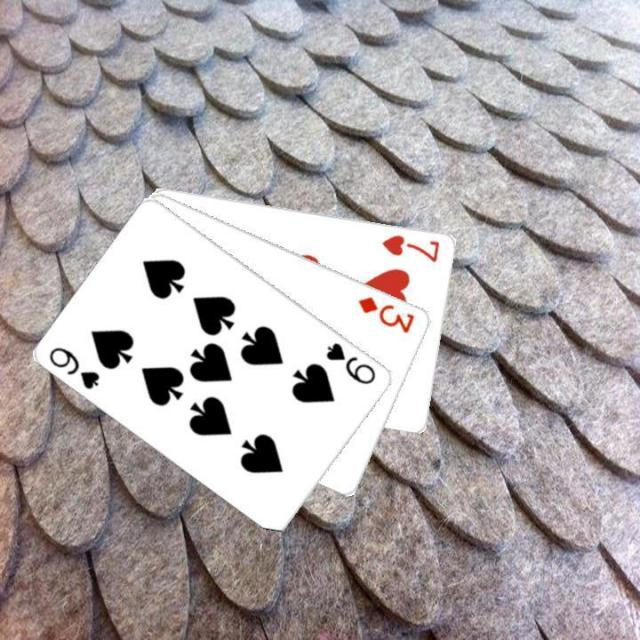3D: (354, 293, 417, 335)
7H: (378, 230, 442, 264)
9S: (322, 338, 379, 387), (46, 342, 103, 391)
